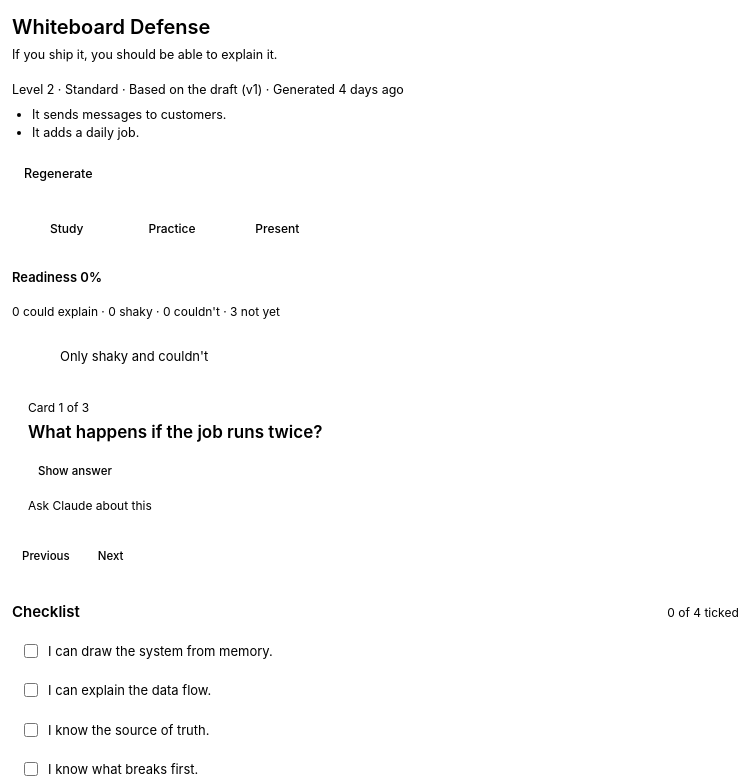
Test case: Practice › moves between cards with Previous and Next, without wrapping, and hides each answer again
The width and height of the screenshot is (755, 780).
Expected: the button "Previous" is disabled, [12,544,80,569]
Click the button with test id "show-answer" at coordinates (75, 471), box [28,459,122,484]
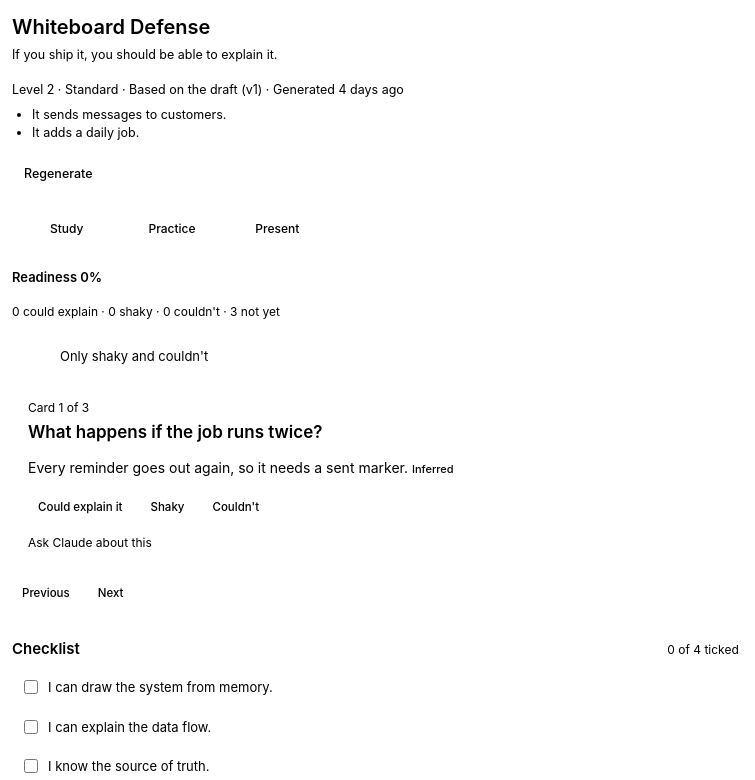
Click the button "Next" at coordinates (111, 593), box [88,581,133,606]
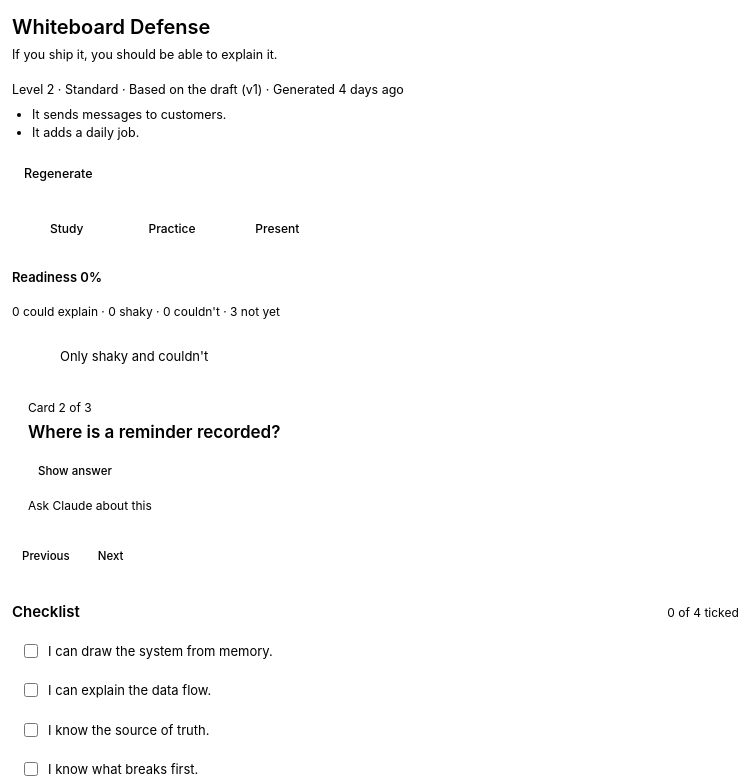
Expected: the element with test id "flashcard" shows "Card 2 of 3", [28,400,280,515]
Expected: the element with test id "flashcard" shows "Where is a reminder recorded?", [28,422,280,442]
Expected: the element with test id "flashcard-answer" is gone
Click the button "Next" at coordinates (111, 557), box [88,544,133,569]
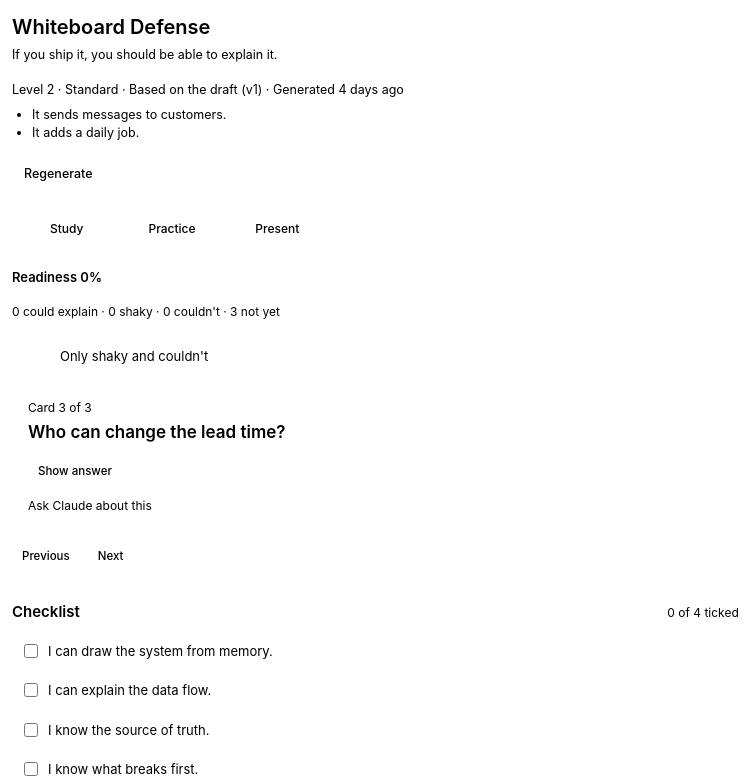
Expected: the element with test id "flashcard" shows "Card 3 of 3", [28,400,286,515]
Click the button "Previous" at coordinates (46, 557), box [12,544,80,569]
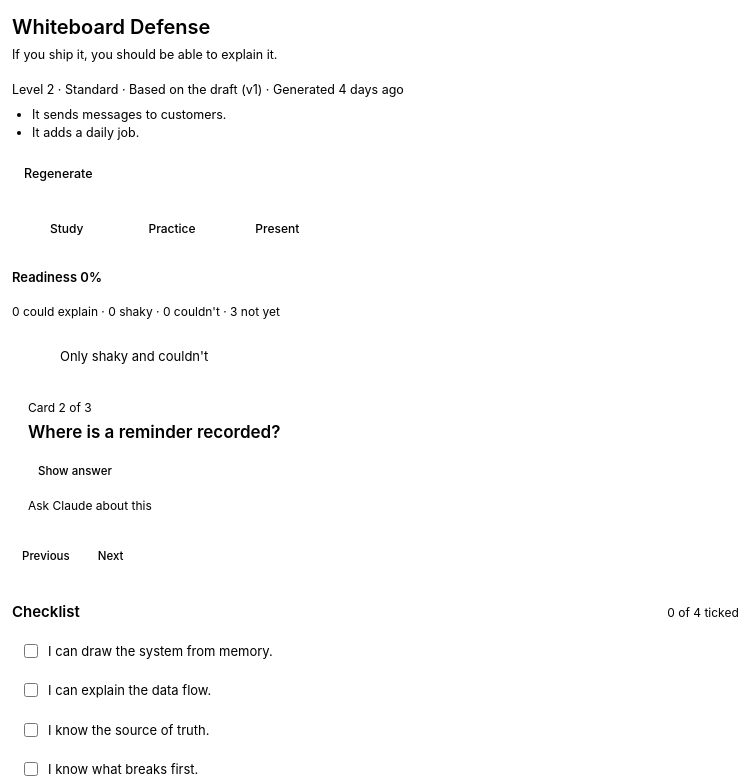
Expected: the element with test id "flashcard" shows "Card 2 of 3", [28,400,280,515]
